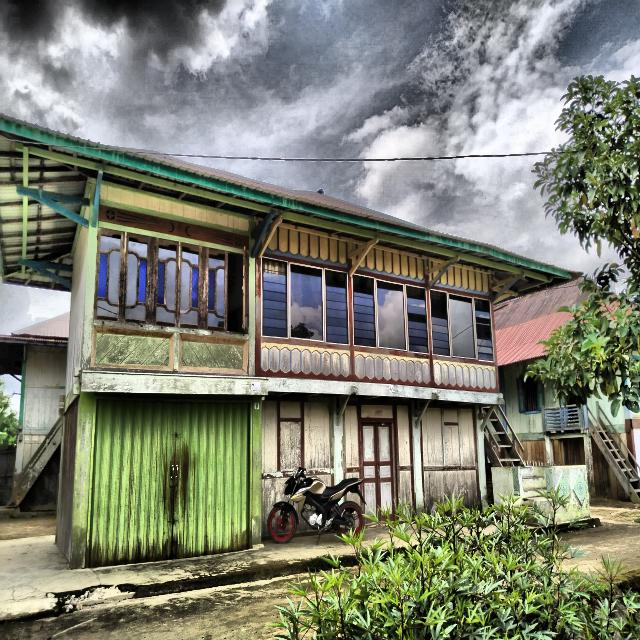door: (362, 422, 395, 519)
ornamen: (91, 325, 175, 370), (260, 342, 351, 381), (178, 333, 249, 375), (354, 350, 431, 387), (433, 359, 497, 393), (281, 421, 301, 470), (444, 425, 461, 466)
roof: (0, 115, 574, 293), (494, 279, 588, 366), (12, 312, 69, 338)
stair: (587, 403, 640, 503), (7, 416, 64, 507), (481, 405, 523, 466)
wall: (90, 184, 249, 376), (85, 393, 253, 568), (261, 227, 351, 380), (352, 247, 431, 387), (262, 401, 332, 537), (430, 266, 497, 393), (345, 406, 411, 519), (422, 407, 478, 518), (56, 397, 79, 564), (23, 344, 67, 429), (66, 226, 88, 395), (22, 435, 48, 470)
window: (93, 227, 125, 322), (123, 232, 152, 324), (150, 236, 179, 327), (290, 264, 324, 341), (376, 280, 406, 350), (262, 258, 288, 338), (204, 247, 228, 332), (179, 242, 202, 329), (227, 246, 249, 334), (325, 270, 349, 344), (449, 294, 476, 359), (352, 275, 376, 347), (406, 285, 429, 353), (430, 290, 450, 356), (474, 298, 494, 361), (517, 377, 545, 412)
